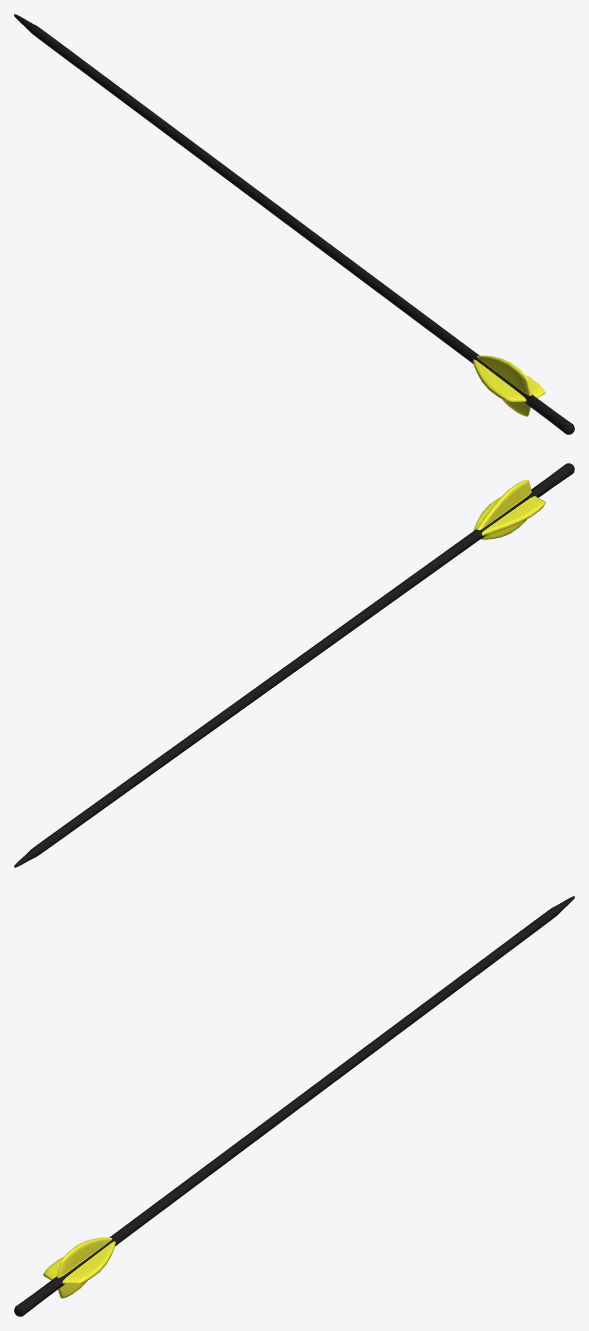
Rendered from arrow.gltf.
3 views of the same model, one above another, from view 1: azimuth 30°, elevation 25°; view 2: azimuth 150°, elevation 25°; view 3: azimuth 330°, elevation 25° (orthographic).
Parts seen in each view (by area): view 1: arrow; view 2: arrow; view 3: arrow.
Boxes of the visible parts, left/top/right/bottom form: arrow: left=14, top=14, right=574, bottom=434; arrow: left=14, top=463, right=574, bottom=867; arrow: left=14, top=896, right=574, bottom=1316.
Size of the model in its own units: 0.0403 by 0.0404 by 0.9429.
